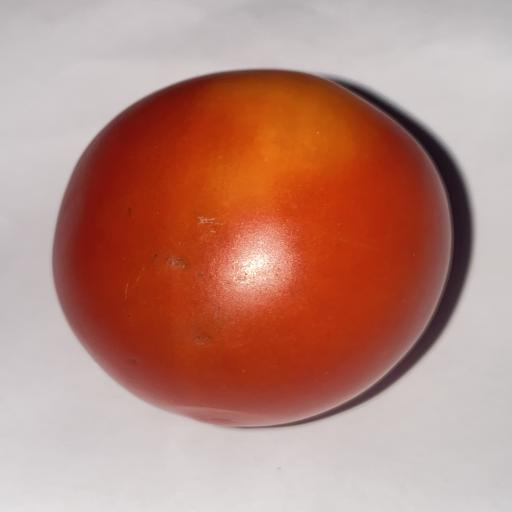ripe: (53, 70, 452, 426)
